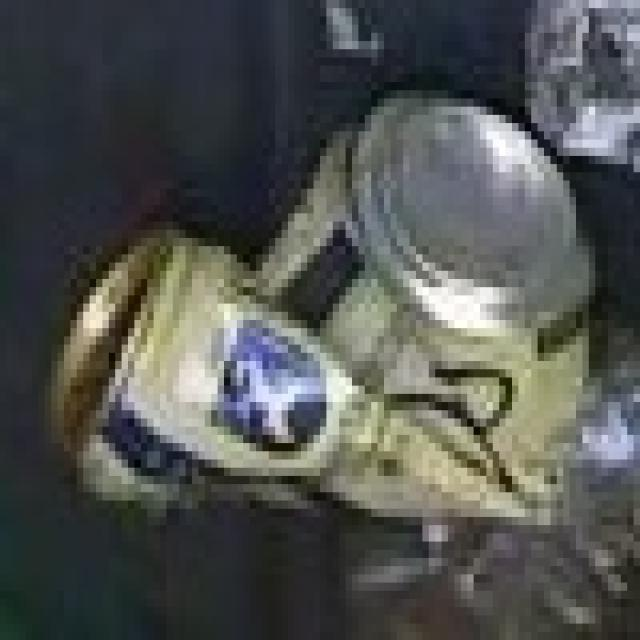litter: (20, 63, 612, 552)
